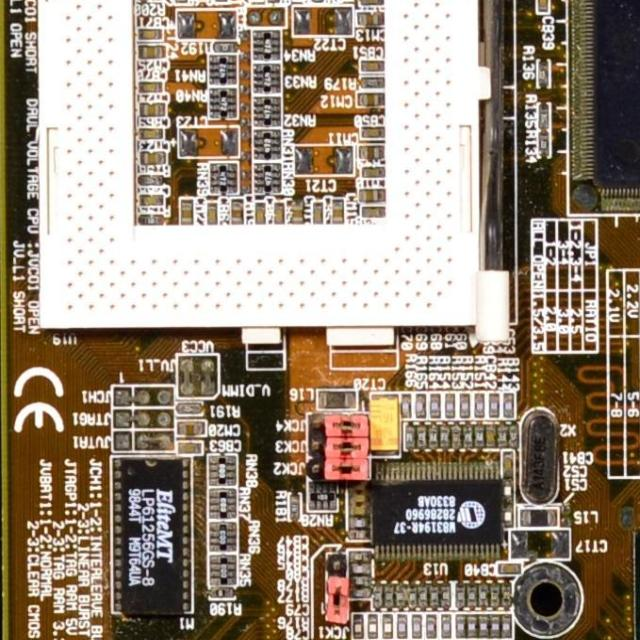IC: (567, 0, 640, 215), (111, 460, 200, 629), (369, 462, 500, 559), (633, 520, 640, 640)
capacitor: (138, 102, 166, 118), (496, 562, 527, 576), (177, 422, 207, 436), (140, 150, 167, 165), (138, 45, 166, 58), (231, 199, 244, 227), (356, 12, 383, 25), (356, 95, 383, 108), (180, 201, 193, 228), (179, 442, 205, 455), (138, 193, 166, 205), (138, 80, 162, 93), (256, 200, 266, 229), (359, 147, 383, 159), (136, 29, 162, 40), (138, 128, 164, 139), (333, 199, 344, 225), (361, 128, 384, 140), (358, 190, 383, 201), (291, 200, 302, 225), (312, 200, 322, 226), (275, 201, 284, 226), (208, 203, 217, 228), (361, 208, 384, 217), (362, 61, 384, 70), (362, 169, 382, 178), (359, 0, 383, 6), (173, 0, 185, 4), (268, 0, 279, 2), (312, 0, 323, 1), (152, 0, 162, 1), (217, 0, 225, 1), (251, 0, 259, 1), (198, 0, 205, 1)
resistor: (471, 394, 487, 422), (288, 492, 302, 522), (176, 401, 210, 413), (486, 392, 501, 419), (501, 392, 516, 418), (500, 613, 514, 640), (424, 613, 438, 640), (456, 393, 471, 418), (137, 212, 165, 225), (394, 613, 407, 640), (399, 392, 412, 418), (413, 393, 426, 419), (137, 173, 162, 186), (443, 394, 455, 421), (451, 426, 469, 444), (439, 611, 451, 637), (430, 582, 441, 610), (366, 612, 377, 640), (478, 614, 490, 639), (407, 583, 418, 610), (352, 614, 364, 638), (359, 76, 383, 88), (482, 428, 496, 448), (412, 610, 422, 638), (403, 427, 415, 450), (441, 580, 450, 610), (427, 426, 439, 448), (418, 584, 429, 608), (479, 583, 488, 612), (491, 611, 500, 640), (456, 613, 466, 639), (430, 393, 440, 418), (209, 590, 234, 600), (383, 583, 392, 610), (455, 584, 465, 608), (502, 586, 512, 610), (383, 611, 391, 640), (466, 615, 476, 637), (508, 422, 517, 446), (394, 586, 403, 610), (470, 424, 478, 449), (490, 585, 498, 610), (496, 425, 505, 447), (417, 428, 426, 450), (467, 584, 476, 606), (441, 423, 449, 447), (374, 584, 382, 608), (477, 426, 484, 450), (136, 0, 148, 1)
